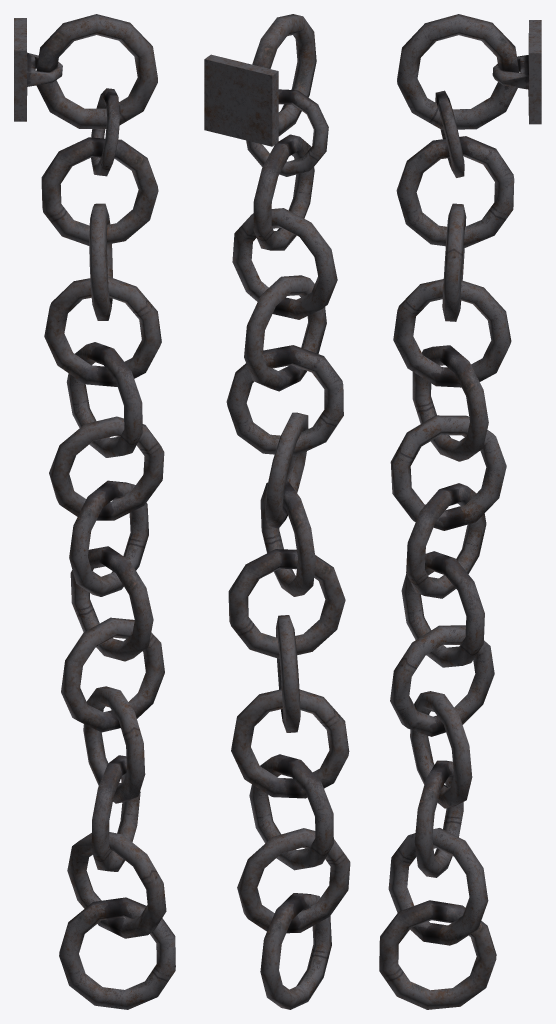
File: Castle Wall Ring Chain 03.fbx
The picture shows the model from 3 angles, left to right: view 1: azimuth 90°, elevation 25°; view 2: azimuth 150°, elevation 25°; view 3: azimuth 270°, elevation 25°; orthographic projection.
Parts seen in each view (by area): view 1: Cube; view 2: Cube; view 3: Cube.
Boxes of the visible parts, x1,y1,x2,y2 form: Cube: [14, 14, 175, 1009]; Cube: [204, 14, 350, 1009]; Cube: [379, 14, 541, 1009].
Size of the model in its own units: 18.53 by 172 by 25.47.
